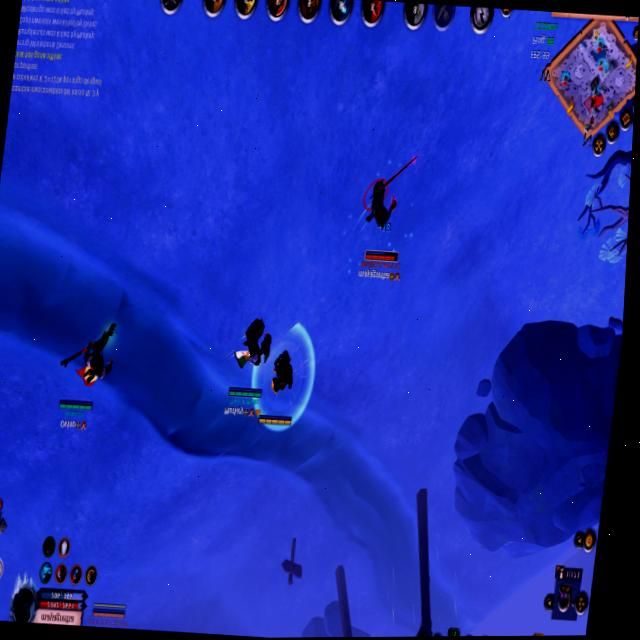red: (41, 309, 125, 440), (349, 145, 423, 291), (218, 303, 278, 429), (250, 339, 311, 435), (84, 595, 133, 629)
